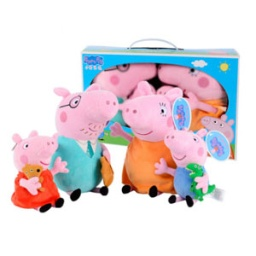Peppa: (11, 132, 68, 214)
